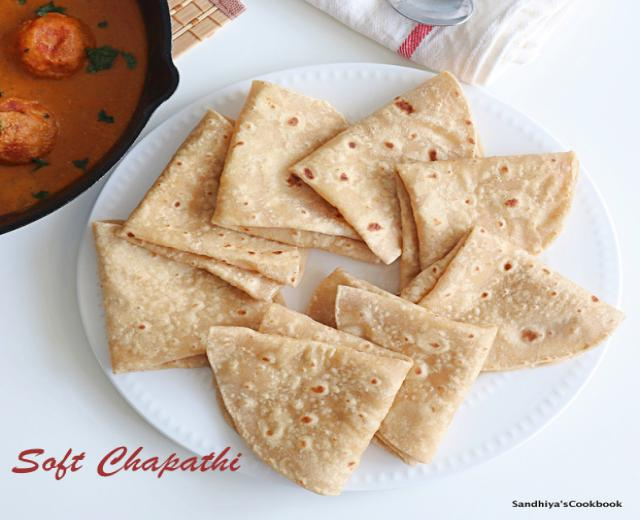chapati: (398, 152, 624, 370)
